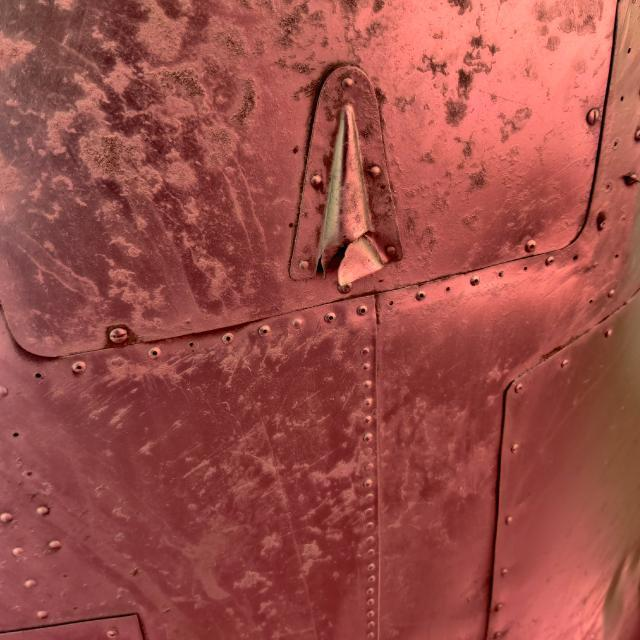Crack: (317, 219, 390, 292)
